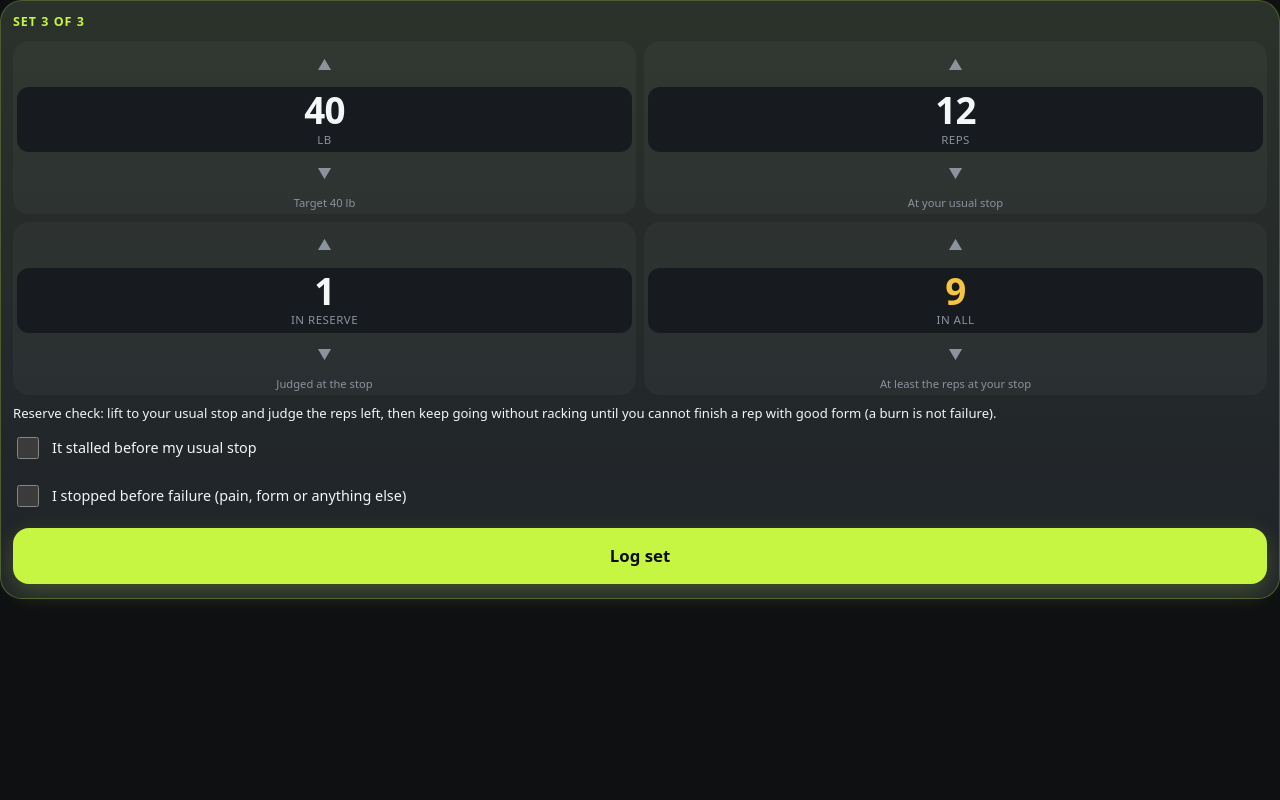
Test: the logger on a reserve check › asks about a slip in the reps in all of a set that stalled early
Click the checkbox with test id "check-failed-early": {"x": 28, "y": 448} [17,437,39,459]
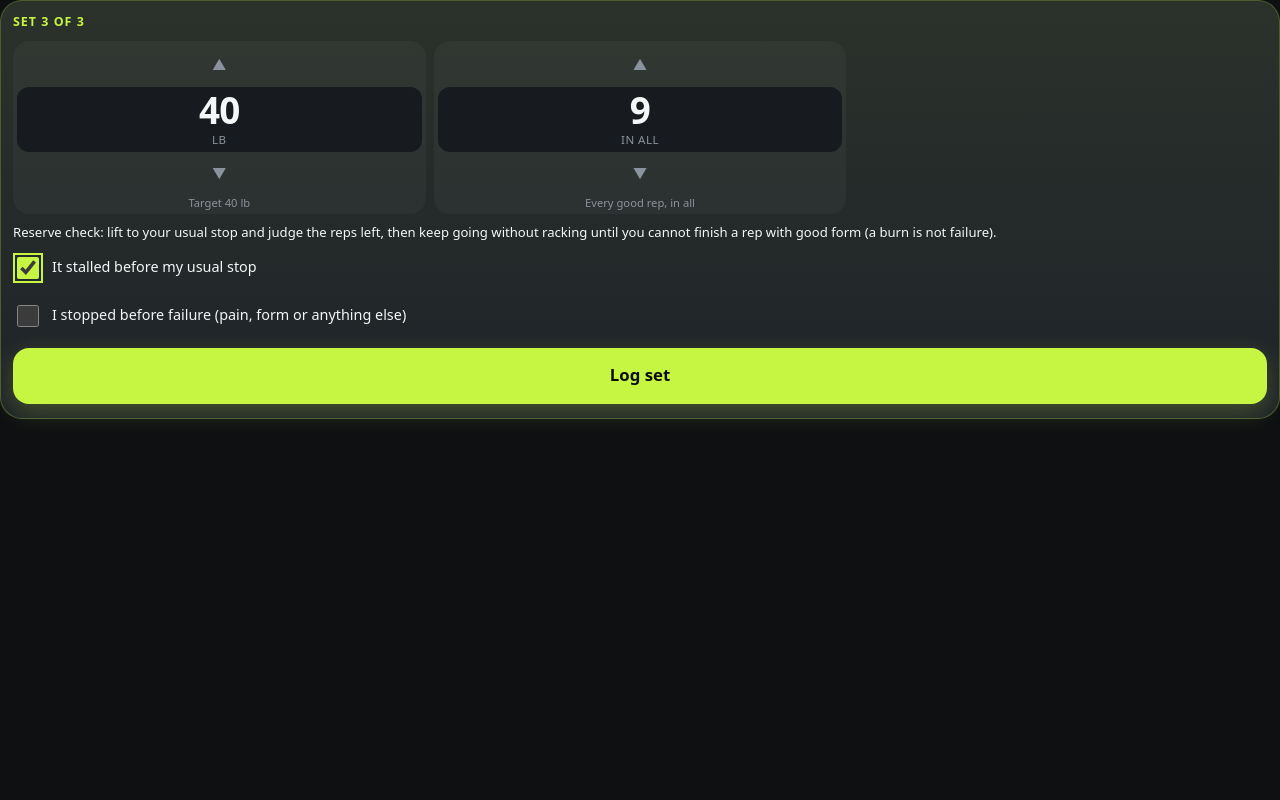
Click the button with test id "logger-total": {"x": 640, "y": 120} [438,87,842,152]
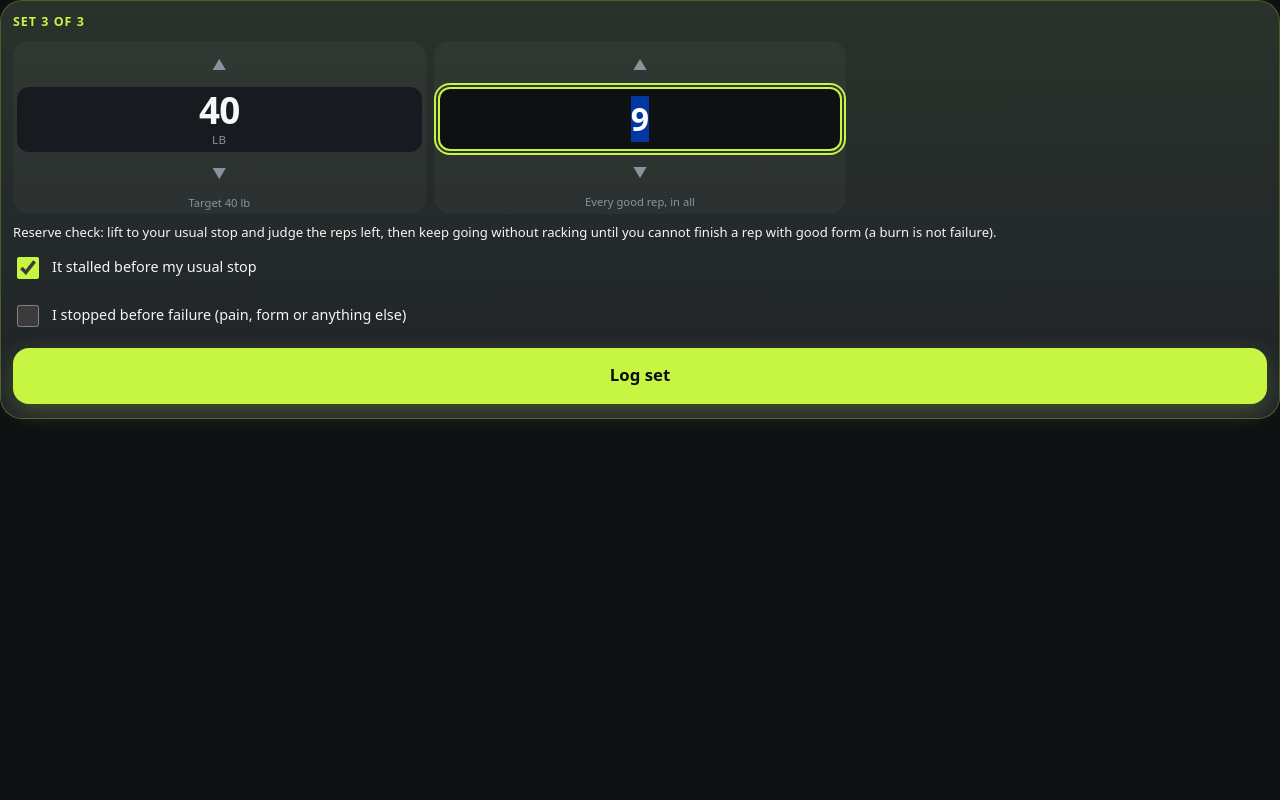
Replace the text in the number field named "Reps in all" with "120": {"x": 640, "y": 119} [438,87,842,151]
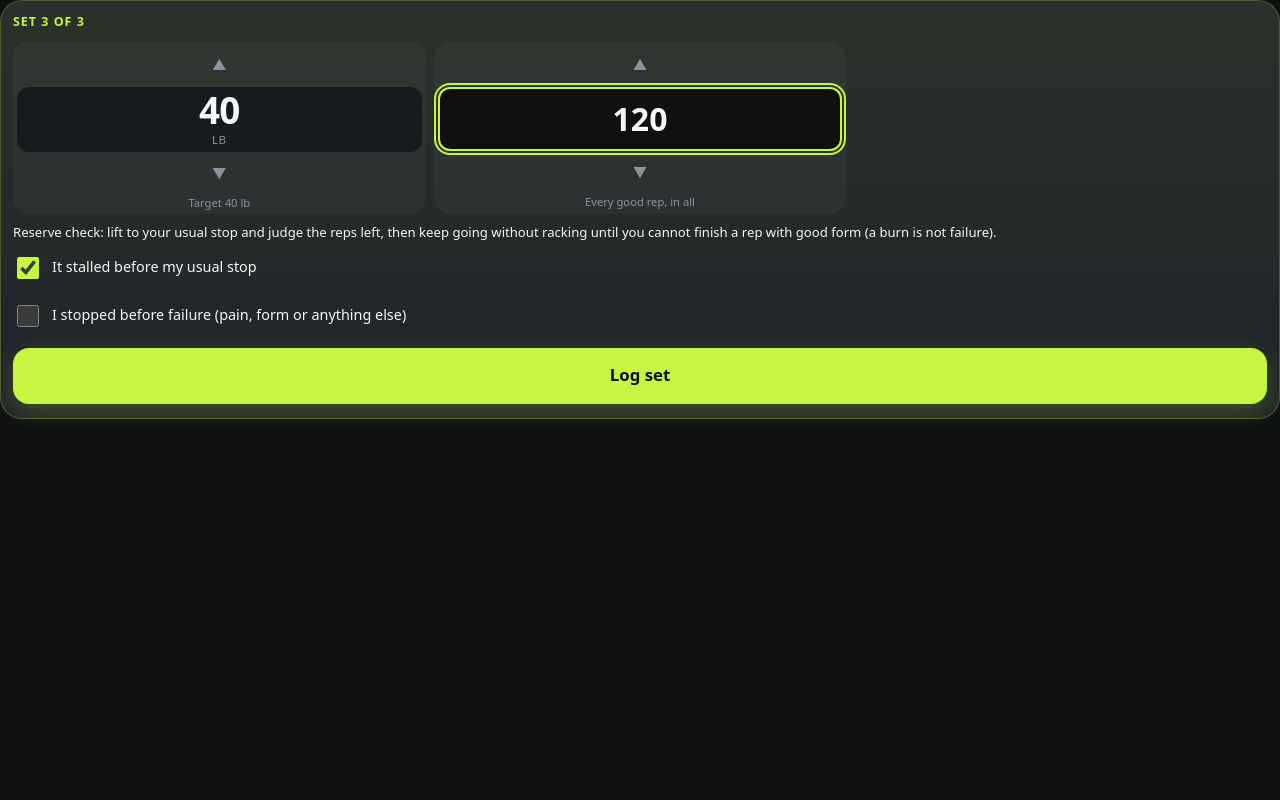
Click the button with test id "log-set": {"x": 640, "y": 376} [13,348,1267,404]
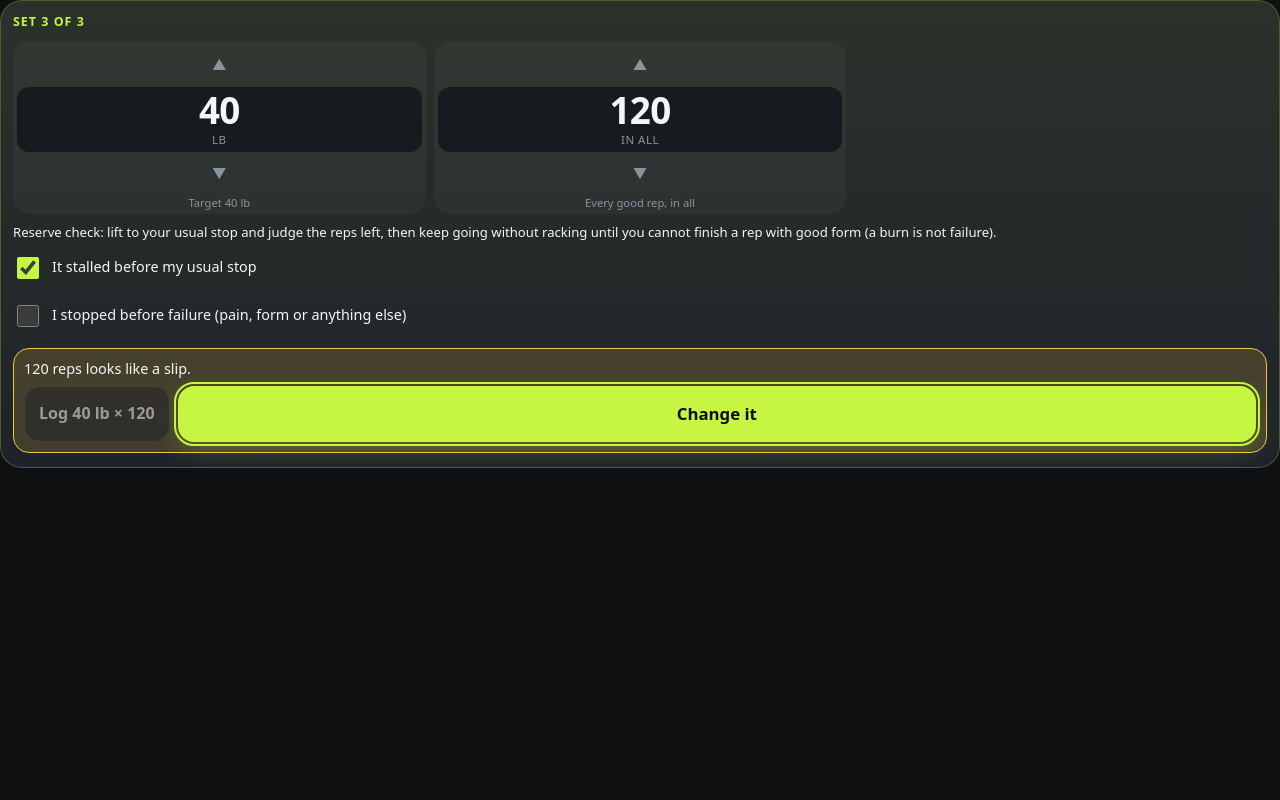
Expected: the element with test id "slip-question" shows "120 reps looks like a slip.", [24,359,191,378]
